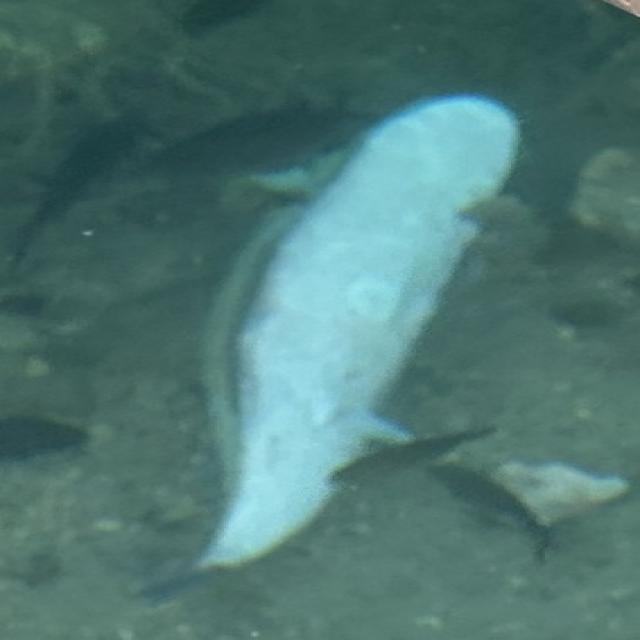Balik: (197, 96, 516, 570)
